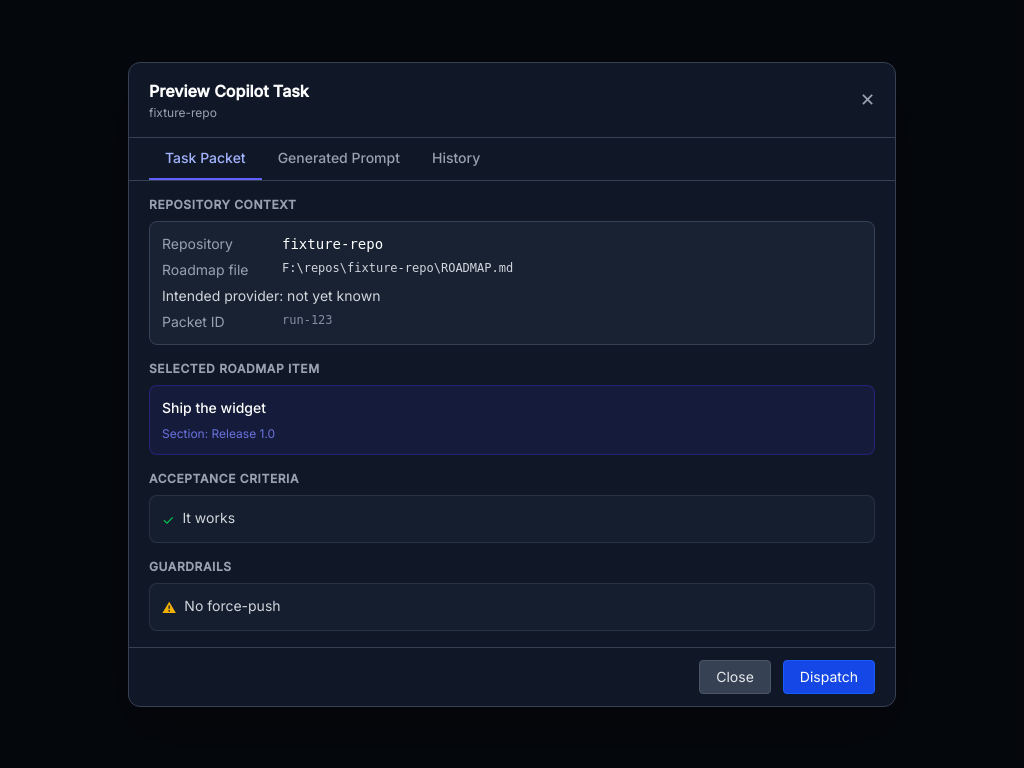
Test: CopilotTaskPreviewModal — dispatch action and honest error hints › a queued run whose lane refused still reports success — the work is moving either way
Click the button "Dispatch" at (829, 676), box [783,660,875,694]
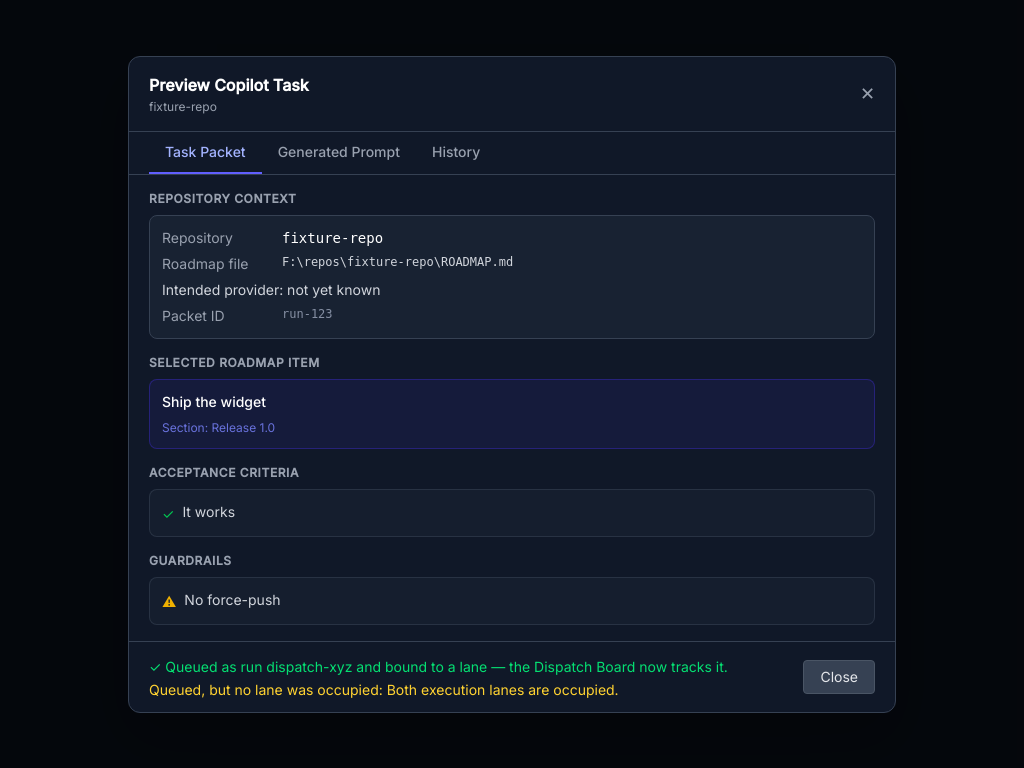
Check: the text "Queued as run dispatch-xyz" is shown, box [149,658,728,674]
Check: the text "Both execution lanes are occupied" is shown, box [149,680,619,698]
